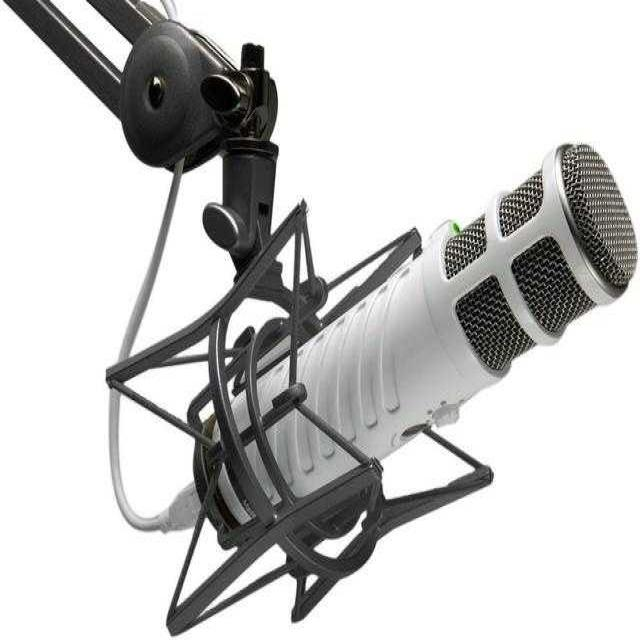microphone: (210, 154, 619, 521)
